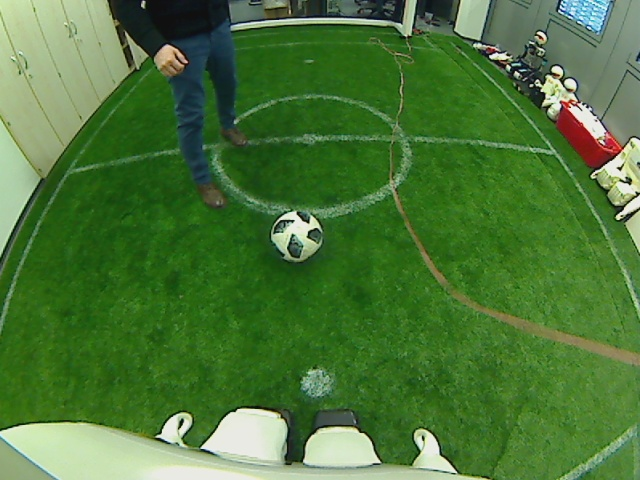ball: (269, 209, 324, 262)
